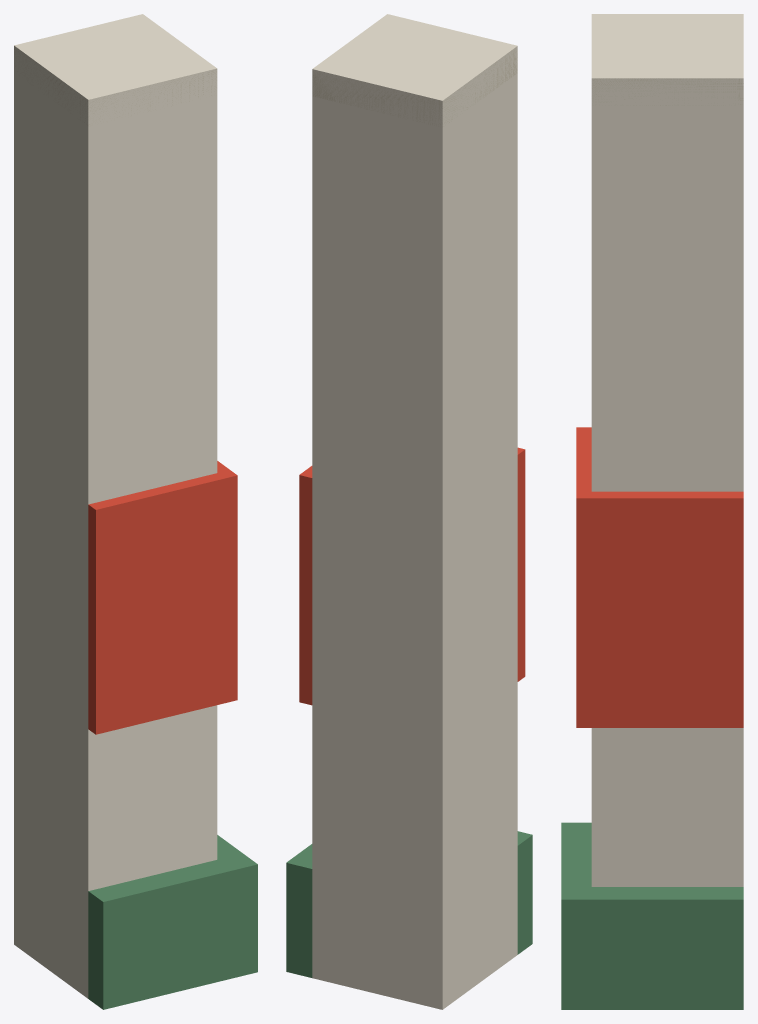
File: wall-corner.glb
3 renders of one model, left to right at view 1: azimuth 30°, elevation 25°; view 2: azimuth 150°, elevation 25°; view 3: azimuth 270°, elevation 25°, orthographic. The views are drawn at different scales.
Visible parts, largest first — view 1: wall-corner; view 2: wall-corner; view 3: wall-corner.
Part boxes in pixels (box(x1,y1,x2,y2)): wall-corner: box(14, 14, 257, 1009); wall-corner: box(286, 14, 532, 1009); wall-corner: box(561, 14, 743, 1009).
Size of the model in its own units: 0.18 by 1 by 0.18.
Materials: 1 (1 with a texture image).
